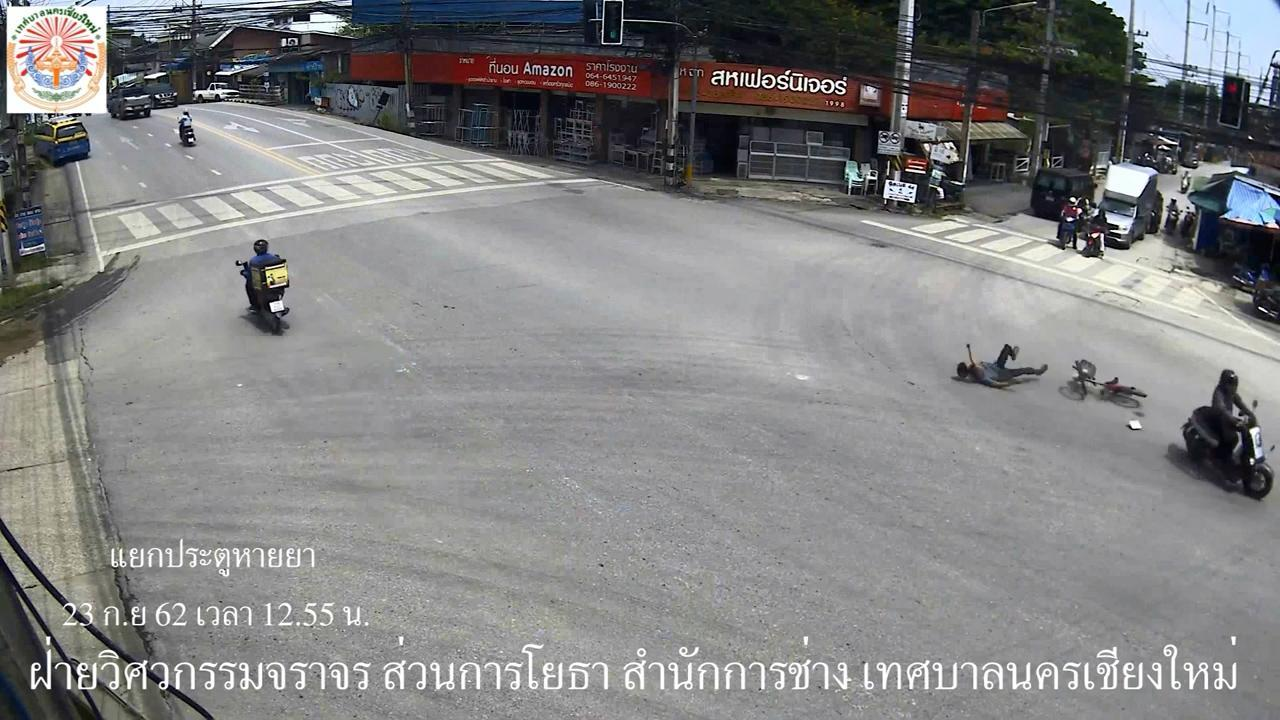accident: (950, 336, 1048, 396)
